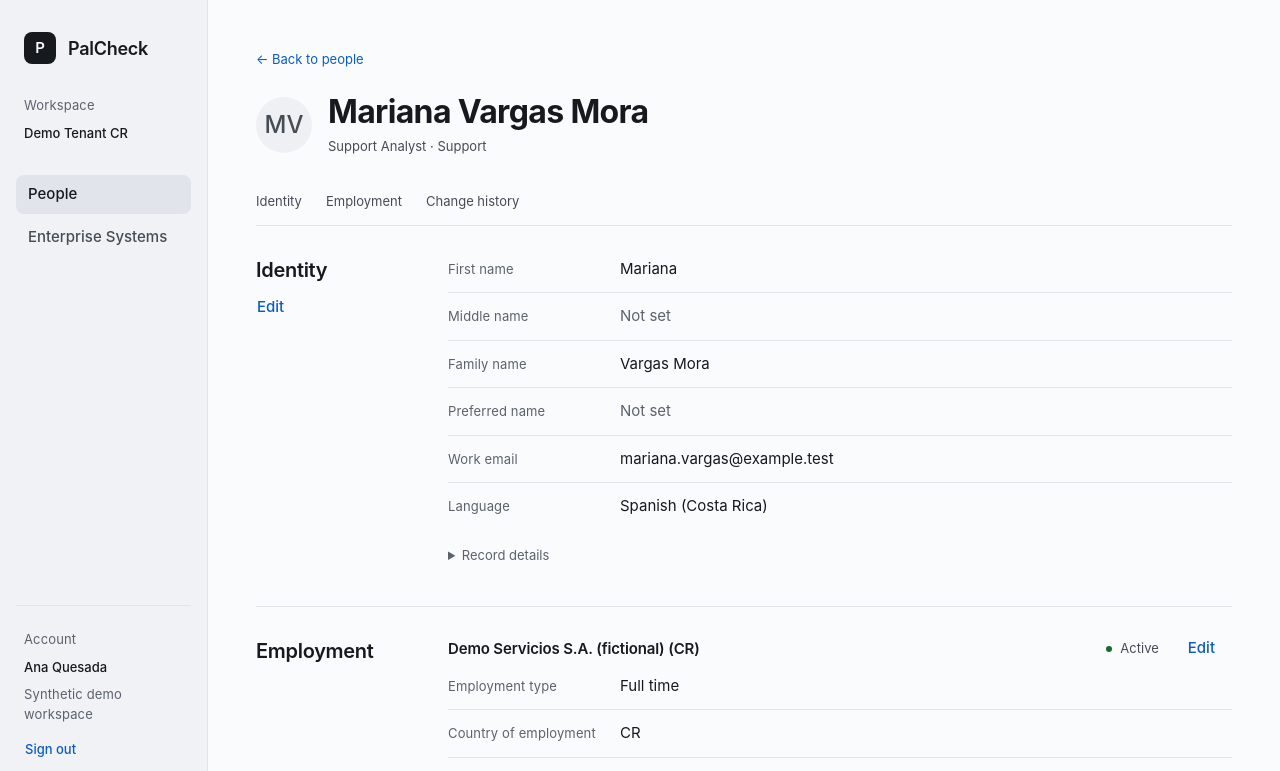
handles authoritative EXTERNALLY_OWNED separately from stale-version conflict
Click the button with aria-label "Edit employment" at coordinates (1201, 649), box [1171,631,1232,667]
(page scrolled)
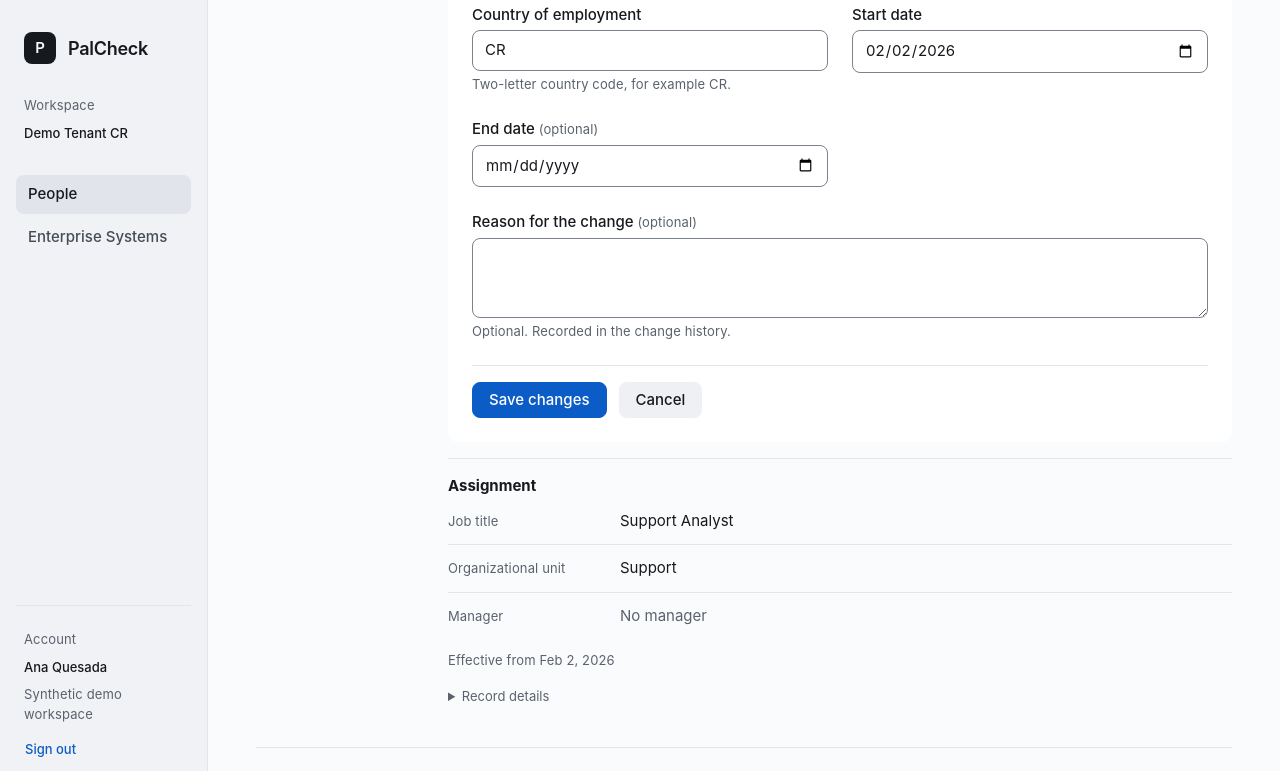
Click the button "Save changes" at coordinates (539, 400), box [472,382,606,418]
(page scrolled)
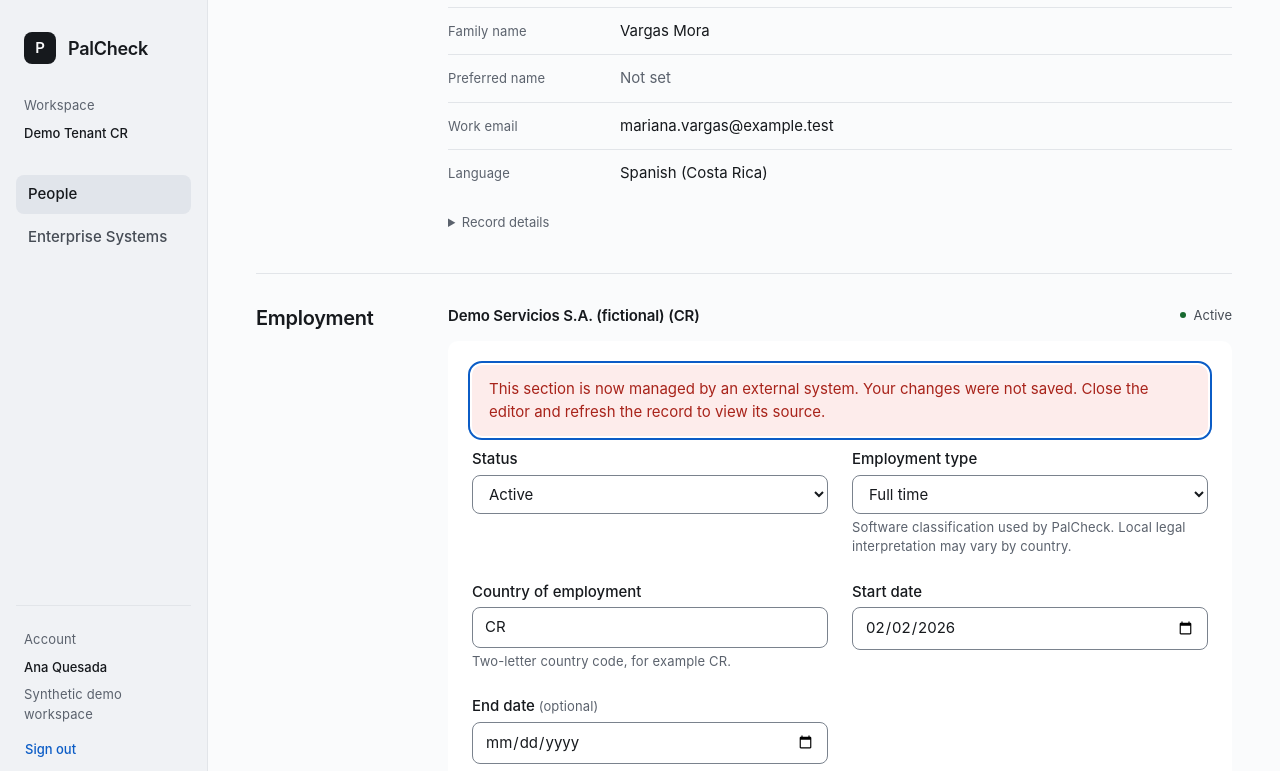
Now the message shows "managed by an external system", box [489,379,1148,421]
